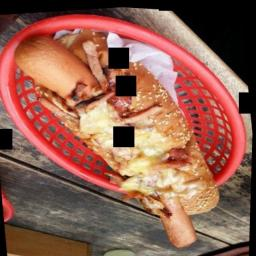hotdog: (10, 31, 78, 113), (56, 66, 114, 119), (158, 178, 198, 250)
